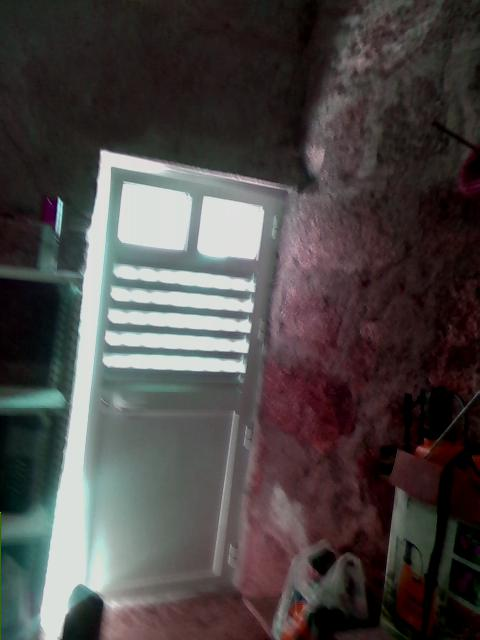closed_door: (81, 148, 291, 604)
